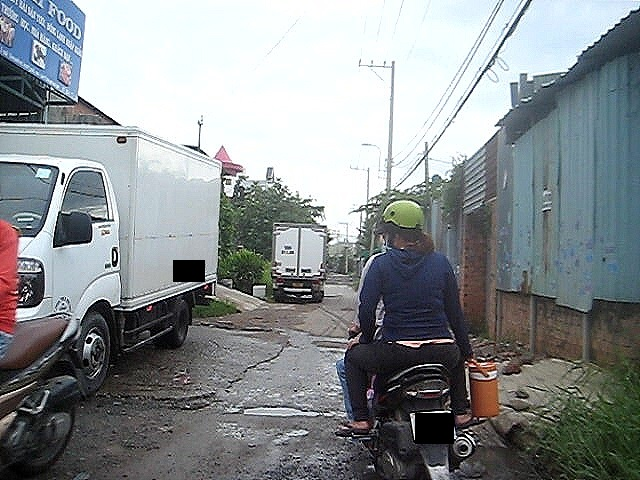hole: (234, 402, 333, 416), (198, 321, 278, 334), (278, 425, 311, 439)
